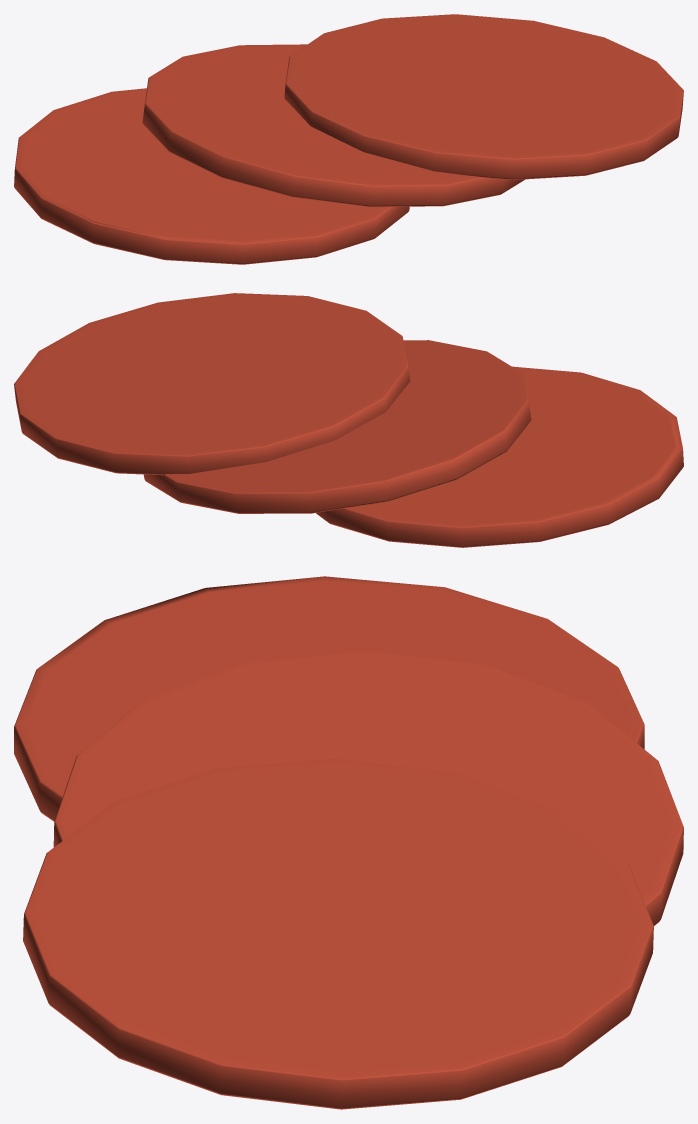
Rendered from tomato.glb.
The picture shows the model from 3 angles, top to bottom: view 1: azimuth 30°, elevation 25°; view 2: azimuth 150°, elevation 25°; view 3: azimuth 270°, elevation 25°; orthographic projection. The views are drawn at different scales.
Visible parts, largest first — view 1: tomato; view 2: tomato; view 3: tomato.
Part boxes in pixels (x1,y1,x2,y2): tomato: (14, 14, 683, 264); tomato: (14, 293, 683, 547); tomato: (14, 576, 683, 1109).
Bounding box in the file's own units: 0.6752 × 0.0768 × 0.4029.
